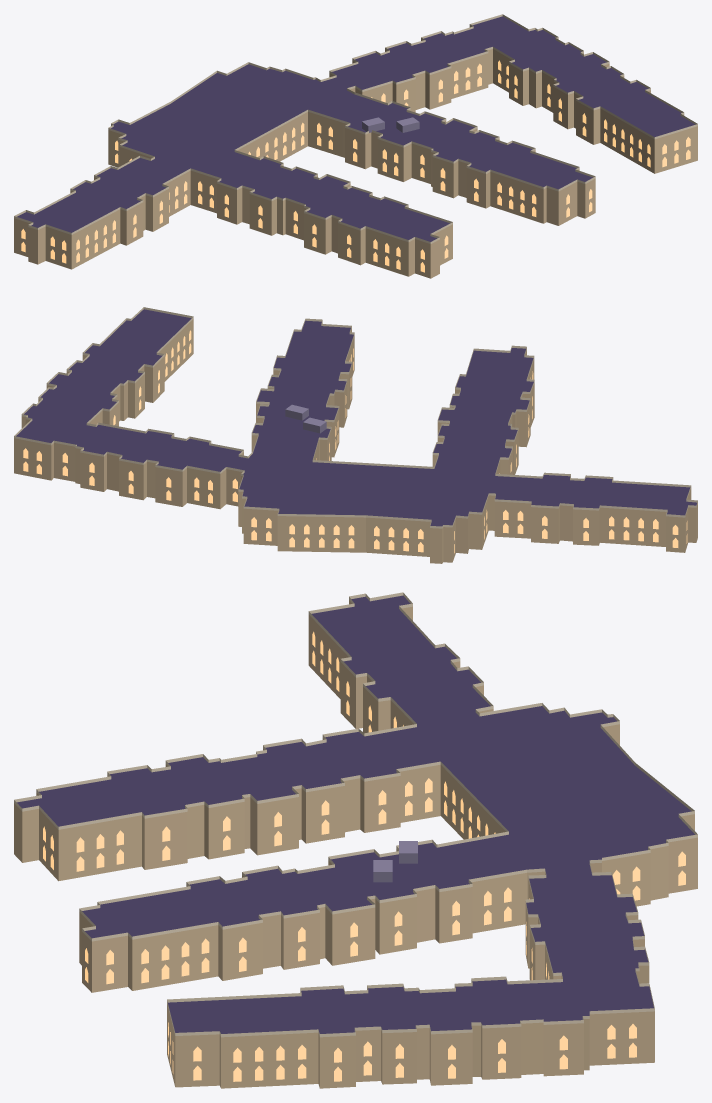
The picture shows the model from 3 angles, top to bottom: view 1: azimuth 30°, elevation 25°; view 2: azimuth 150°, elevation 25°; view 3: azimuth 270°, elevation 25°; orthographic projection. The views are drawn at different scales.
Visible parts, largest first — view 1: campus/b-051-0; view 2: campus/b-051-0; view 3: campus/b-051-0.
Part boxes in pixels (x1,y1,x2,y2): campus/b-051-0: (14, 14, 697, 278); campus/b-051-0: (14, 307, 697, 563); campus/b-051-0: (14, 592, 697, 1088).
Size of the model in its own units: 164 by 10.7 by 107.
